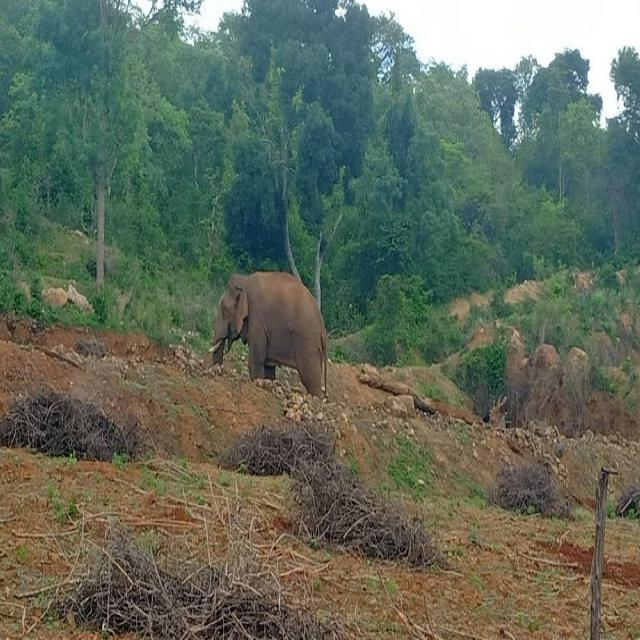Elephant: (211, 270, 329, 395)
